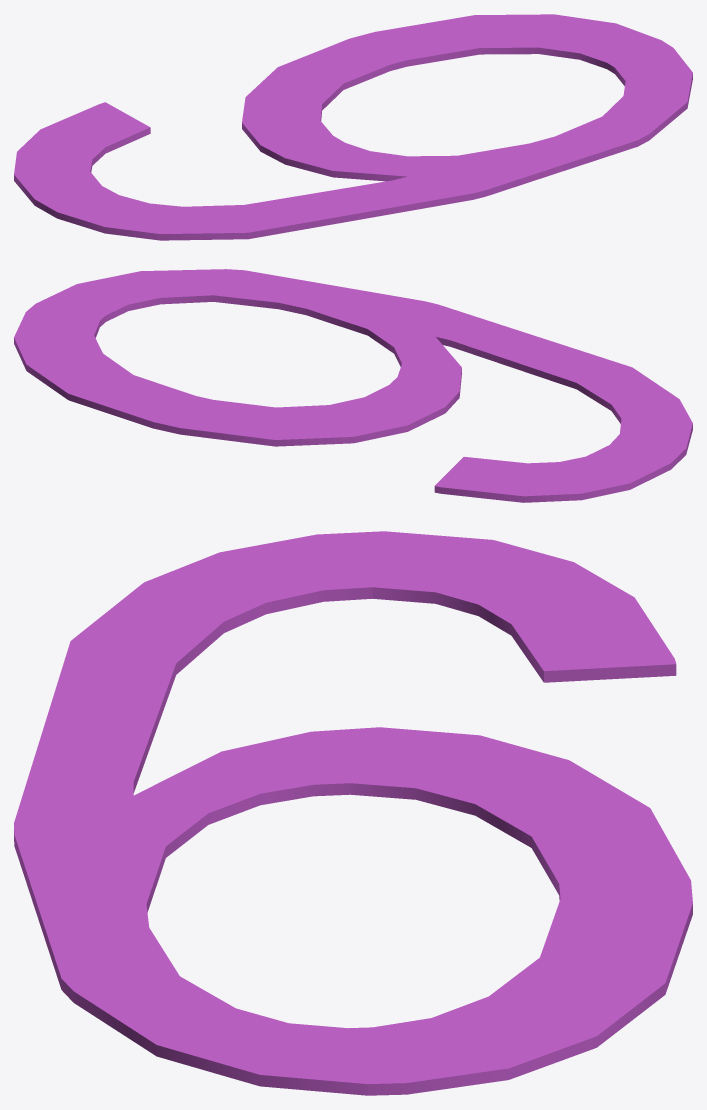
The model's file is IMU_26.gltf.
3 views of the same model, one above another, from view 1: azimuth 30°, elevation 25°; view 2: azimuth 150°, elevation 25°; view 3: azimuth 270°, elevation 25° (orthographic). The views are drawn at different scales.
Parts seen in each view (by area): view 1: mesh7751, mesh7760, mesh7759, mesh7747, mesh7756, mesh7746, mesh7753; view 2: mesh7751, mesh7757, mesh7761, mesh7748, mesh7754, mesh7758, mesh7749; view 3: mesh7751, mesh7759, mesh7758, mesh7754, mesh7746, mesh7749, mesh7753, mesh7752.
Boxes of the visible parts, x1,y1,x2,y2 form: mesh7751: (14,14,692,233); mesh7760: (34,193,472,240); mesh7759: (473,74,692,199); mesh7747: (407,47,614,73); mesh7756: (260,145,406,181); mesh7746: (320,60,406,120); mesh7753: (90,127,150,172); mesh7751: (14,269,692,496); mesh7757: (153,407,445,446); mesh7761: (434,463,670,502); mesh7748: (106,295,306,321); mesh7754: (451,340,621,423); mesh7758: (14,338,153,428); mesh7749: (306,309,401,366); mesh7751: (14,531,692,1083); mesh7759: (14,830,367,1095); mesh7758: (367,903,692,1095); mesh7754: (133,587,372,792); mesh7746: (350,783,560,900); mesh7749: (146,783,350,912); mesh7753: (372,587,543,682); mesh7752: (544,664,676,682).
Bounding box in the file's own units: 0.00103 × 1e-05 × 0.000532.
